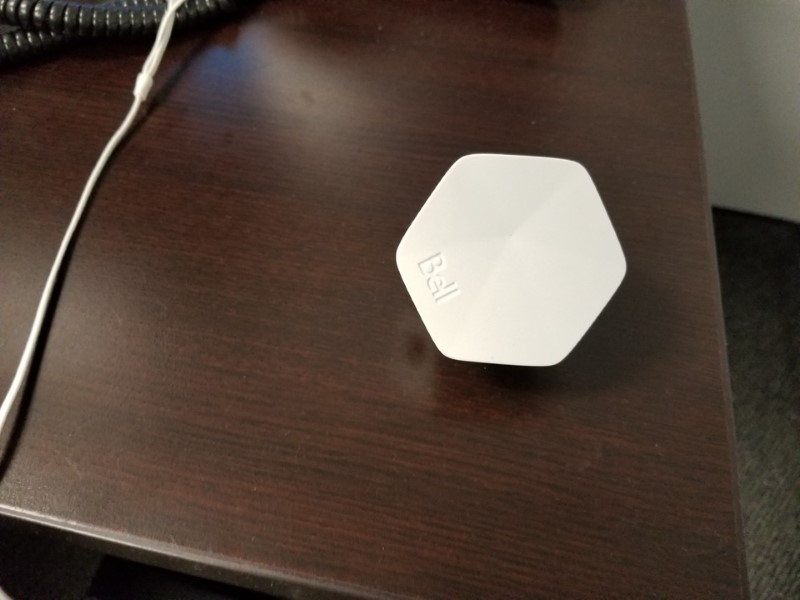pod: (392, 150, 639, 374)
